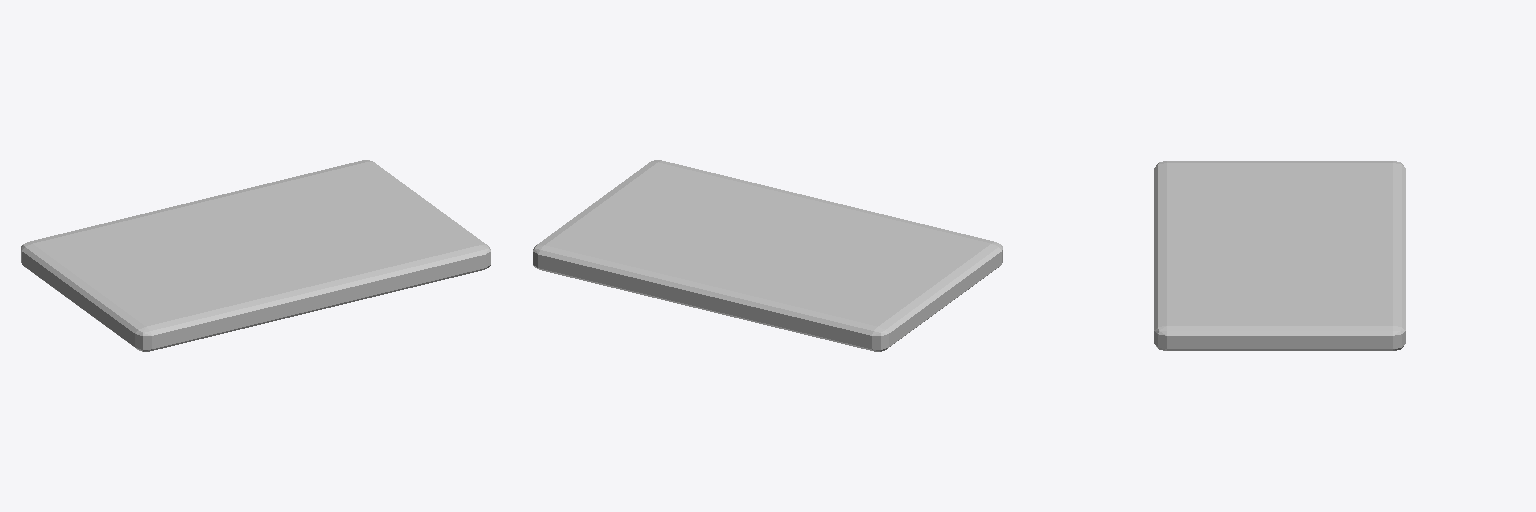
File: mattress.obj
3 renders of one model, left to right at view 1: azimuth 30°, elevation 25°; view 2: azimuth 150°, elevation 25°; view 3: azimuth 270°, elevation 25°, orthographic.
Visible parts, largest first — view 1: matress; view 2: matress; view 3: matress.
Part boxes in pixels (bbox=[...]): matress: bbox=[21, 160, 490, 351]; matress: bbox=[533, 160, 1002, 351]; matress: bbox=[1154, 161, 1405, 350].
Bounding box in the file's own units: 1.32 × 0.082 × 0.8105.